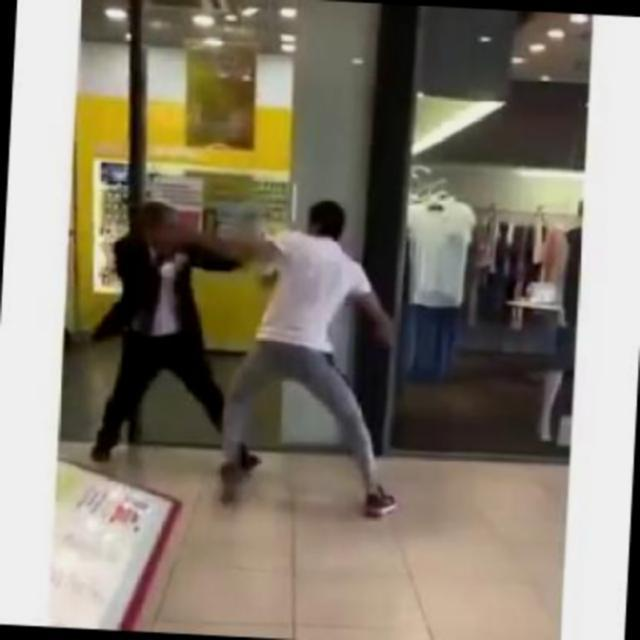fight: (86, 188, 414, 514)
